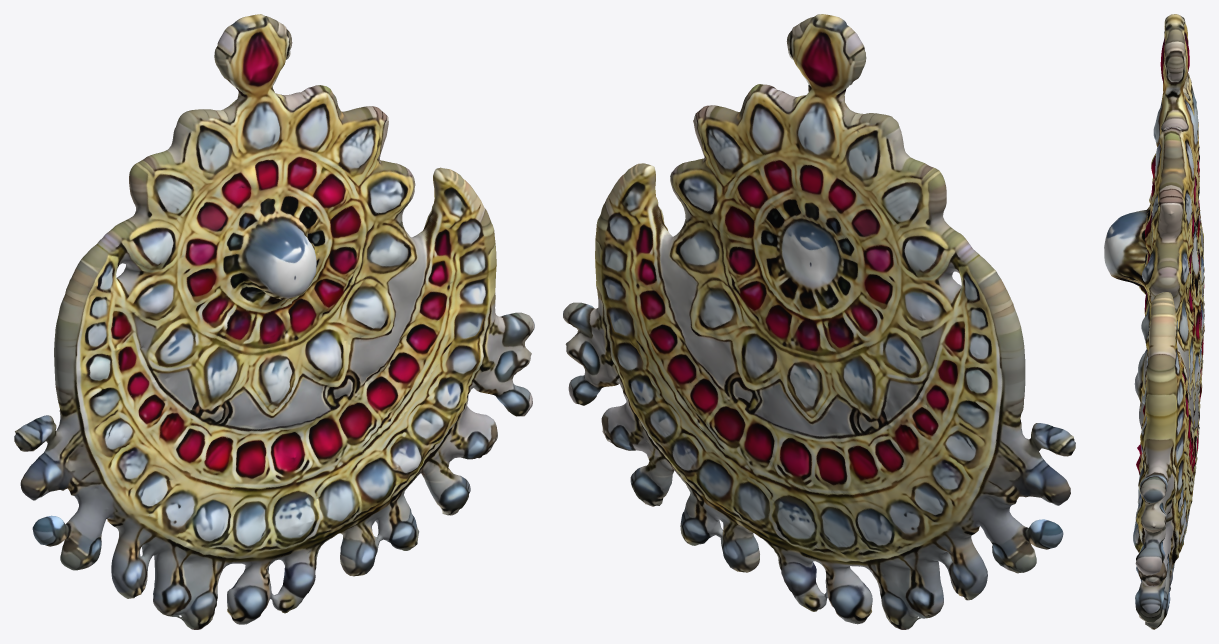
Rendered from kfl-2230.glb.
3 views of the same model, side by side, from view 1: azimuth 30°, elevation 25°; view 2: azimuth 150°, elevation 25°; view 3: azimuth 270°, elevation 25° (orthographic). The views are drawn at different scales.
Parts seen in each view (by area): view 1: kfl-2230; view 2: kfl-2230; view 3: kfl-2230.
Part boxes in pixels (x1,y1,x2,y2): kfl-2230: (14, 14, 534, 629); kfl-2230: (563, 14, 1075, 629); kfl-2230: (1104, 14, 1204, 629).
Bounding box in the file's own units: 0.8845 × 0.9897 × 0.1567.
1 material, 1 textured.
